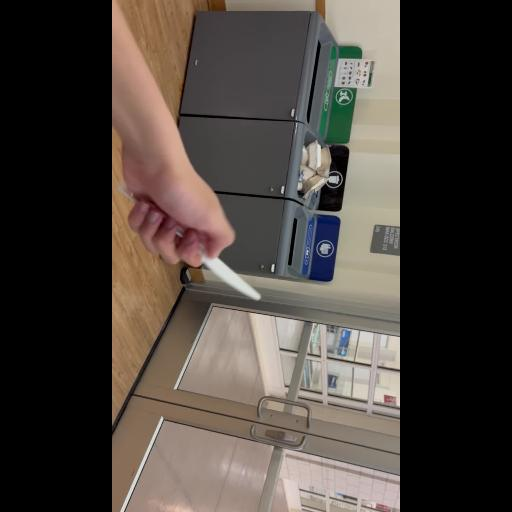utensil: (137, 190, 273, 362)
